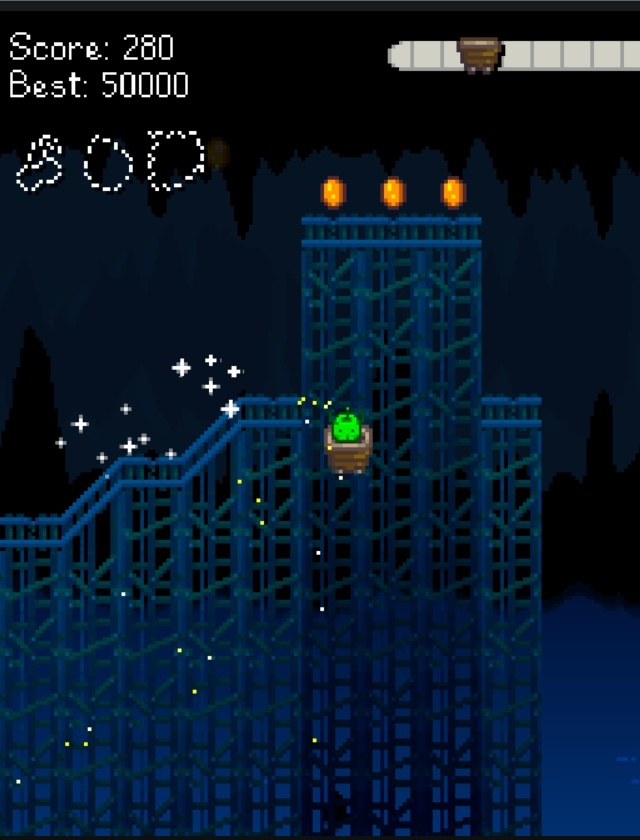coins: (382, 177, 405, 208), (442, 177, 465, 208), (323, 177, 345, 208)
minecart: (324, 407, 373, 479)
tracks: (0, 397, 306, 550), (302, 216, 481, 249), (481, 397, 540, 430)
